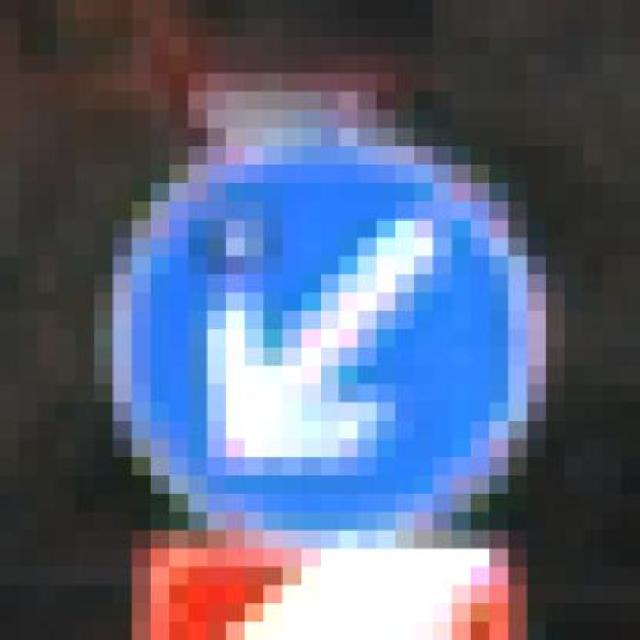Keep-Left: (76, 91, 564, 548)
